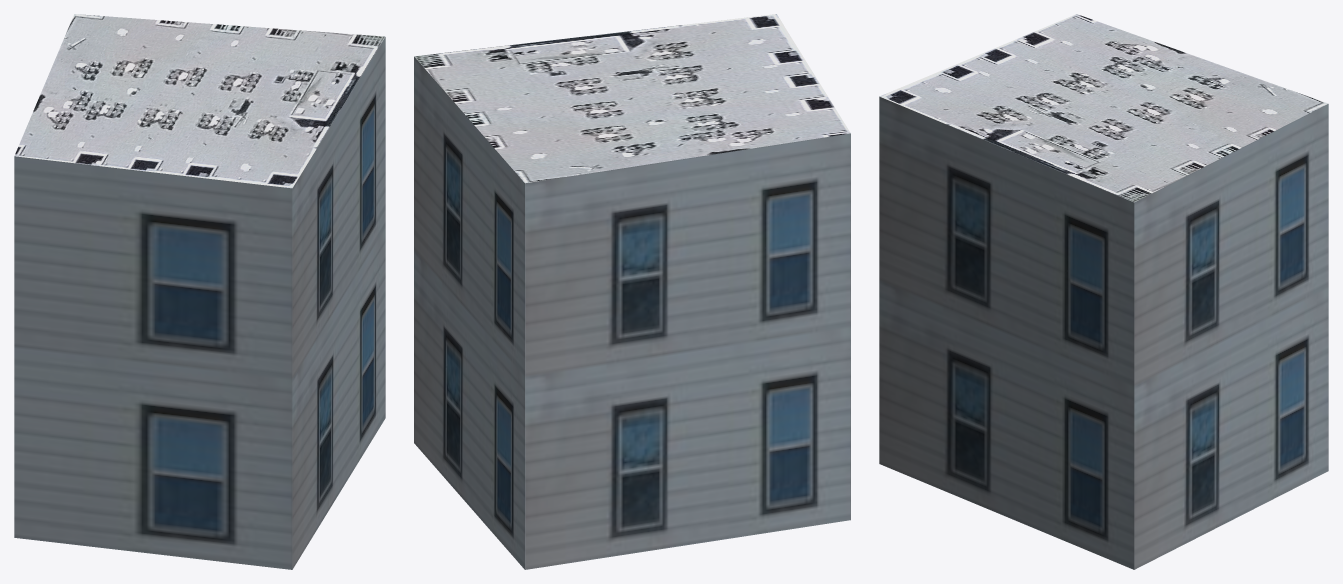
The model's file is ResTex__4540.fbx.
The picture shows the model from 3 angles, left to right: view 1: azimuth 30°, elevation 25°; view 2: azimuth 150°, elevation 25°; view 3: azimuth 270°, elevation 25°; orthographic projection. The views are drawn at different scales.
Parts seen in each view (by area): view 1: CityEngineMaterial_18_m, CityEngineMaterial_m; view 2: CityEngineMaterial_18_m, CityEngineMaterial_m; view 3: CityEngineMaterial_18_m, CityEngineMaterial_m.
Boxes of the visible parts, <box> form: CityEngineMaterial_18_m: <box>14,37,385,569</box>; CityEngineMaterial_m: <box>14,14,385,188</box>; CityEngineMaterial_18_m: <box>414,57,850,569</box>; CityEngineMaterial_m: <box>414,14,850,183</box>; CityEngineMaterial_18_m: <box>879,96,1328,569</box>; CityEngineMaterial_m: <box>879,14,1327,202</box>.
Bounding box in the file's own units: 6.6 × 6 × 6.65.
Materials: 2 (2 with a texture image).
